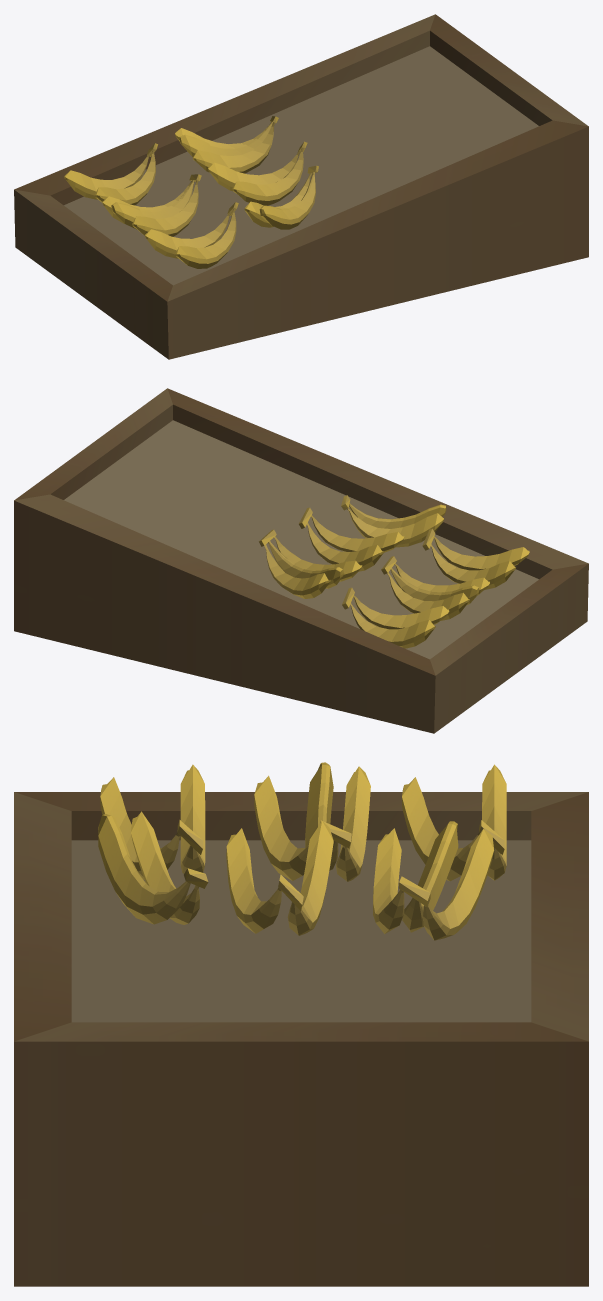
File: Crate_Food_2.fbx
The picture shows the model from 3 angles, top to bottom: view 1: azimuth 30°, elevation 25°; view 2: azimuth 150°, elevation 25°; view 3: azimuth 270°, elevation 25°; orthographic projection. The views are drawn at different scales.
Visible parts, largest first — view 1: polySurface9654; view 2: polySurface9654; view 3: polySurface9654.
Boxes of the visible parts, x1,y1,x2,y2 form: polySurface9654: [14, 14, 588, 359]; polySurface9654: [14, 388, 588, 733]; polySurface9654: [14, 762, 588, 1286].
Size of the model in its own units: 186 by 55 by 117.
